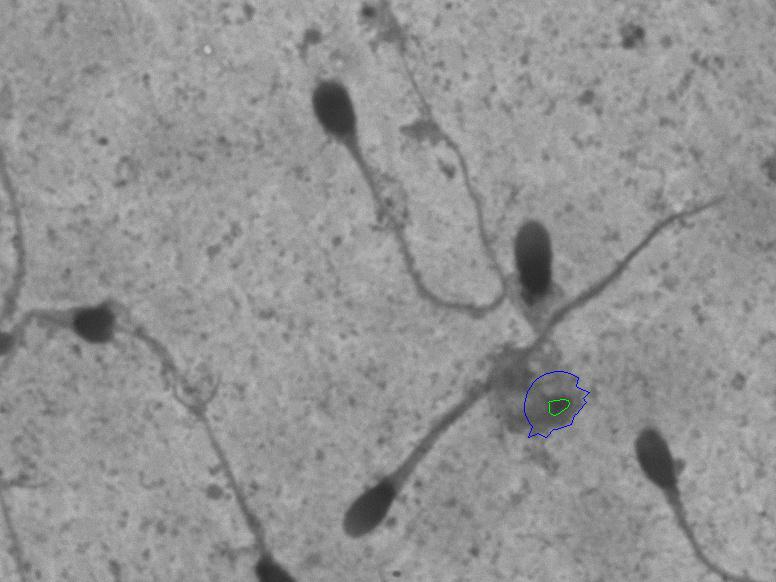Abnormal: (277, 51, 488, 324), (312, 369, 502, 576), (604, 427, 740, 563)
